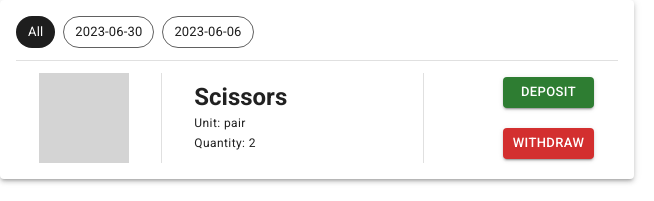
Test: ItemContainer › handles expiry date changes
The width and height of the screenshot is (654, 201).
Click the button "All": click(36, 32) x1=16 y1=16 x2=55 y2=48
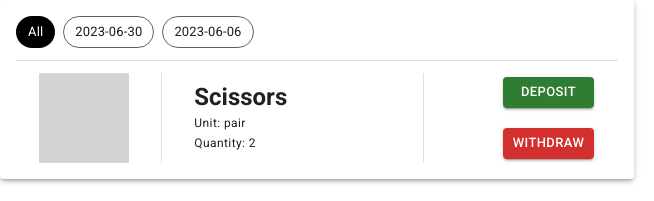
Expected: the text "Quantity: 2" is shown, x1=194 y1=136 x2=256 y2=150
Click the button "2023-06-30": click(109, 32) x1=63 y1=16 x2=154 y2=48
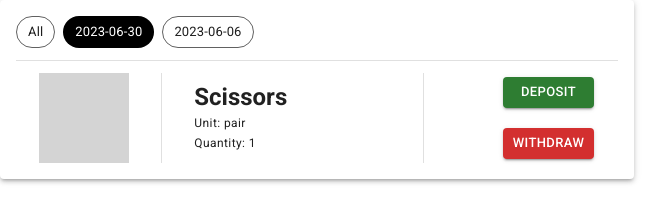
Result: the text "Quantity: 1" is shown at x1=194 y1=136 x2=256 y2=150
